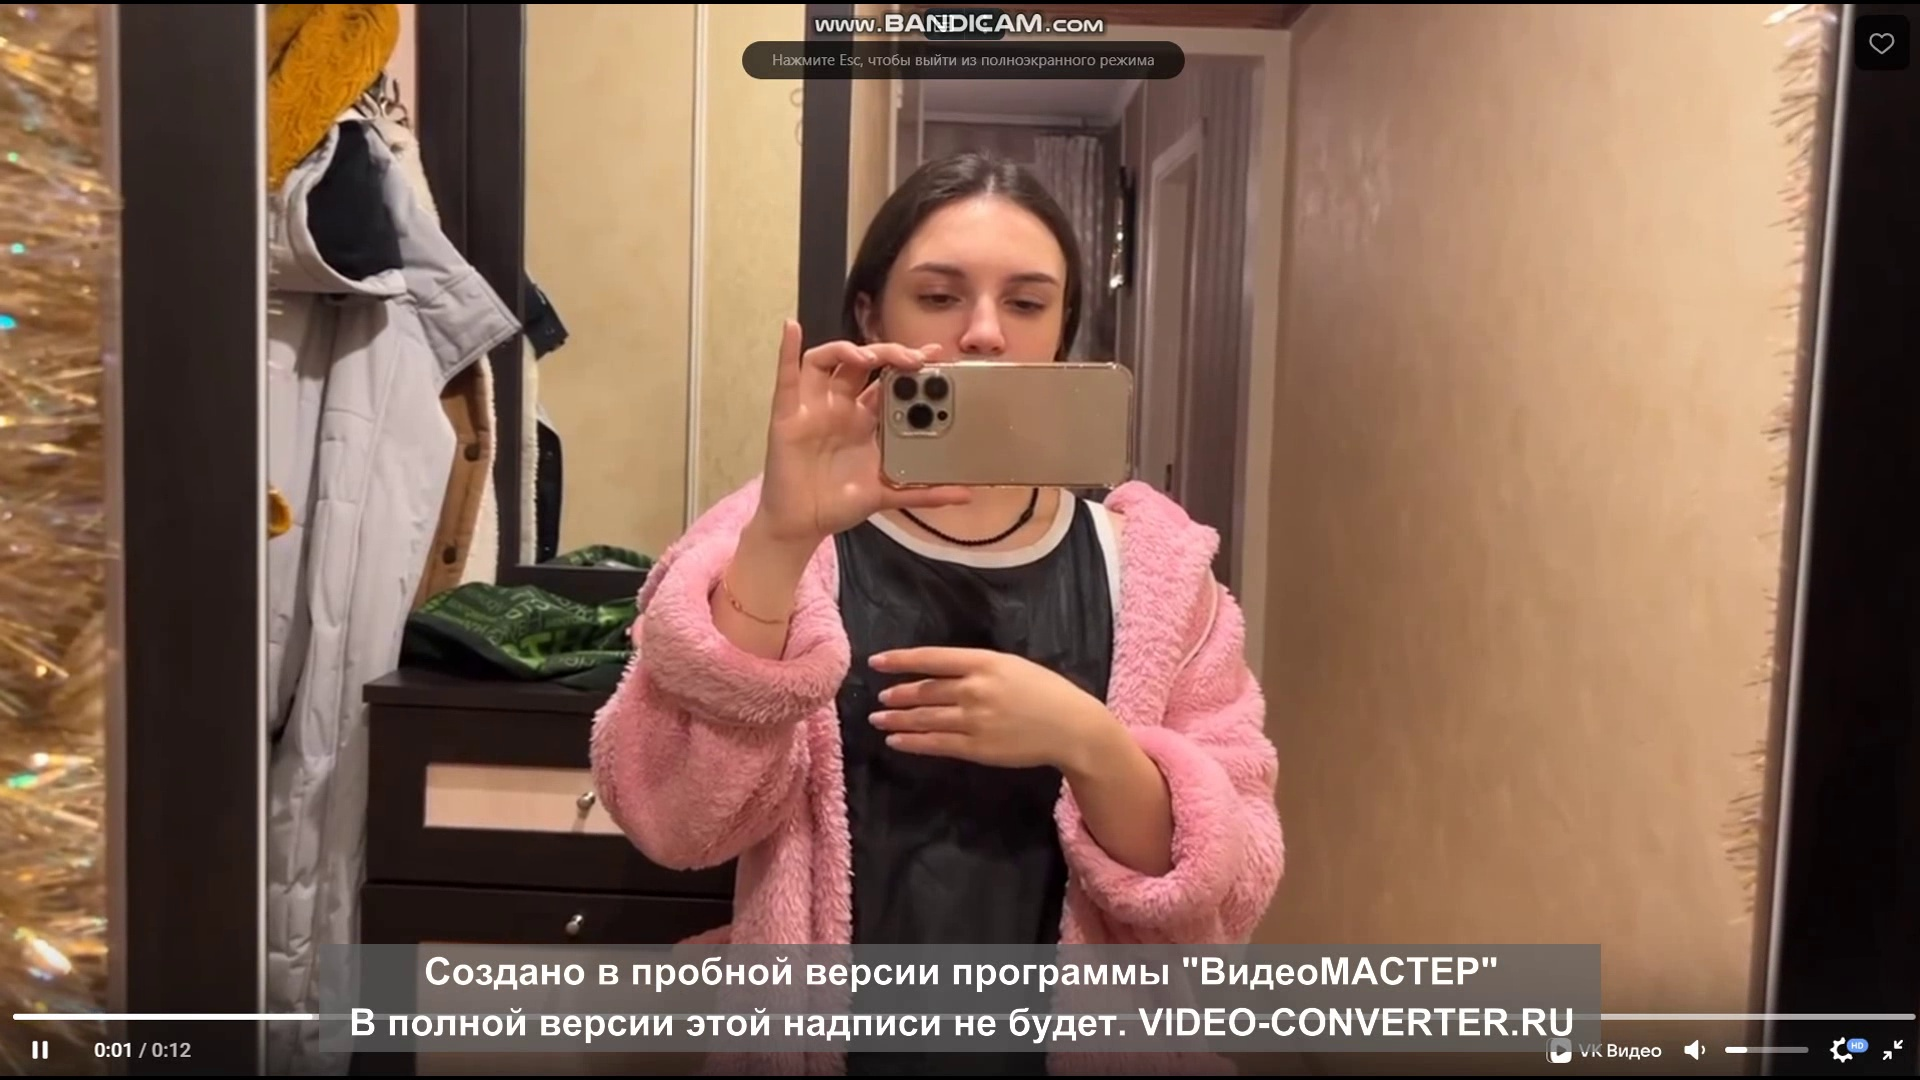Кисть: (866, 640, 1073, 769)
